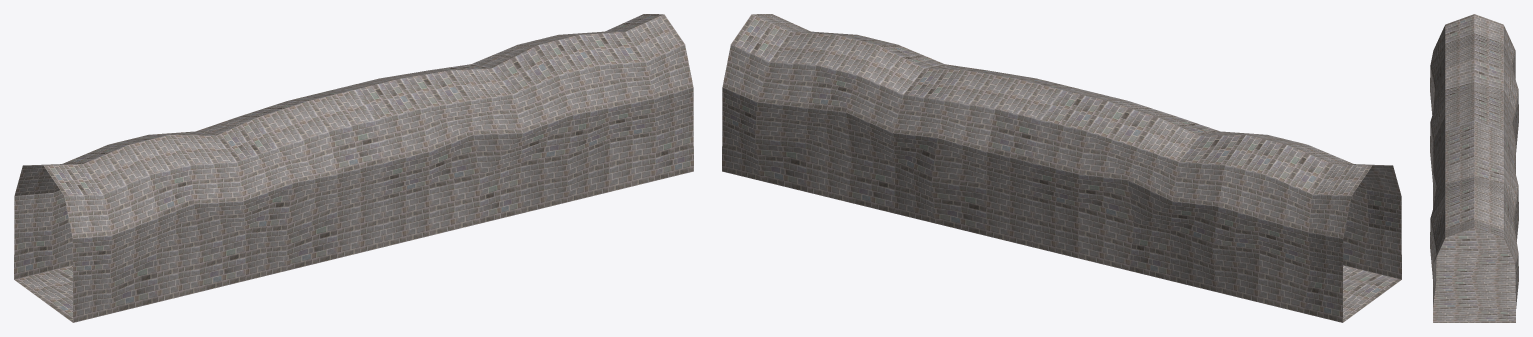
File: map50DEW.fbx
The picture shows the model from 3 angles, left to right: view 1: azimuth 30°, elevation 25°; view 2: azimuth 150°, elevation 25°; view 3: azimuth 270°, elevation 25°; orthographic projection. The views are drawn at different scales.
Parts seen in each view (by area): view 1: map50DEW:Layer4; view 2: map50DEW:Layer4; view 3: map50DEW:Layer4.
Part boxes in pixels (x1,y1,x2,y2): map50DEW:Layer4: [14, 14, 693, 322]; map50DEW:Layer4: [722, 14, 1401, 322]; map50DEW:Layer4: [1430, 14, 1518, 322].
Bounding box in the file's own units: 1 × 0.2089 × 0.1761.
